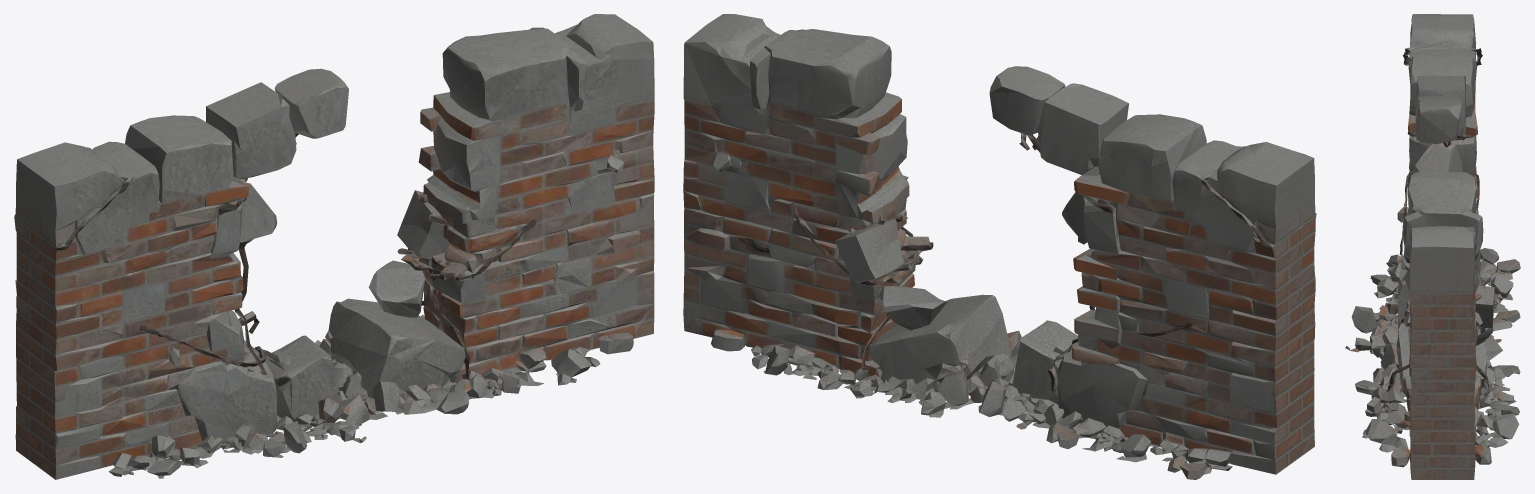
Rendered from building_breach_frame.glb.
3 renders of one model, left to right at view 1: azimuth 30°, elevation 25°; view 2: azimuth 150°, elevation 25°; view 3: azimuth 270°, elevation 25°, orthographic. The views are drawn at different scales.
Bounding box in the file's own units: 1.9 × 0.9733 × 0.6065.
Materials: 1 (1 with a texture image).
